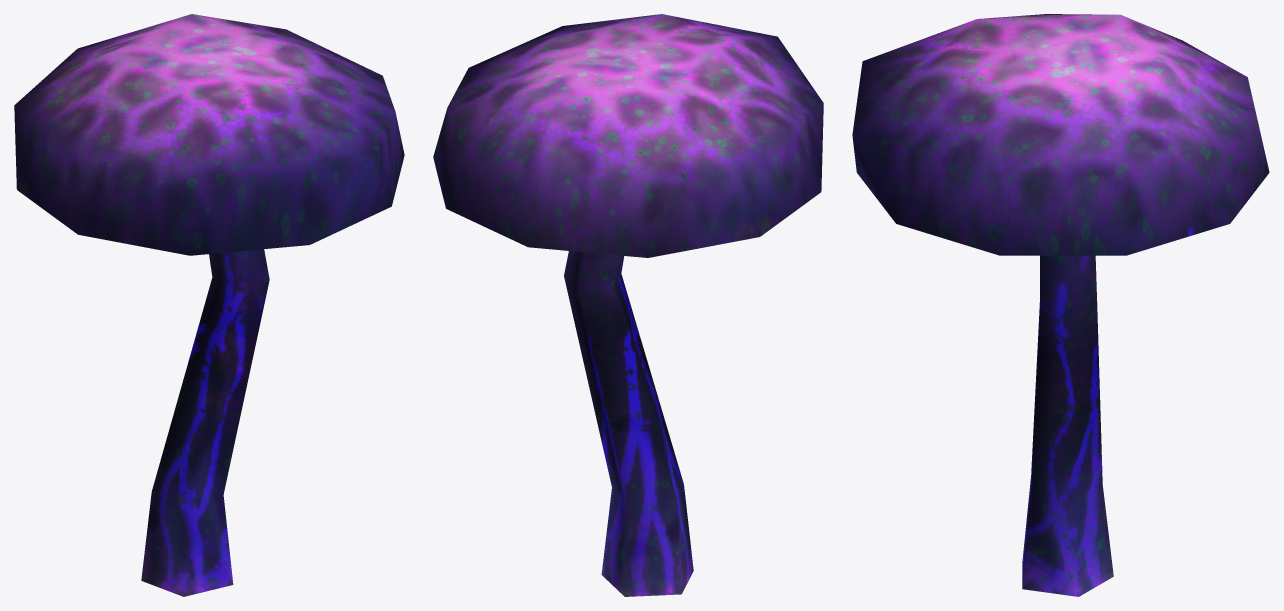
Rendered from shroom2 1.fbx.
The picture shows the model from 3 angles, left to right: view 1: azimuth 30°, elevation 25°; view 2: azimuth 150°, elevation 25°; view 3: azimuth 270°, elevation 25°; orthographic projection. The views are drawn at different scales.
Parts seen in each view (by area): view 1: Cylinder.001; view 2: Cylinder.001; view 3: Cylinder.001.
Part boxes in pixels (x1,y1,x2,y2): Cylinder.001: (14, 14, 404, 596); Cylinder.001: (433, 14, 823, 596); Cylinder.001: (852, 14, 1269, 596).
Bounding box in the file's own units: 830 × 1247 × 876.
